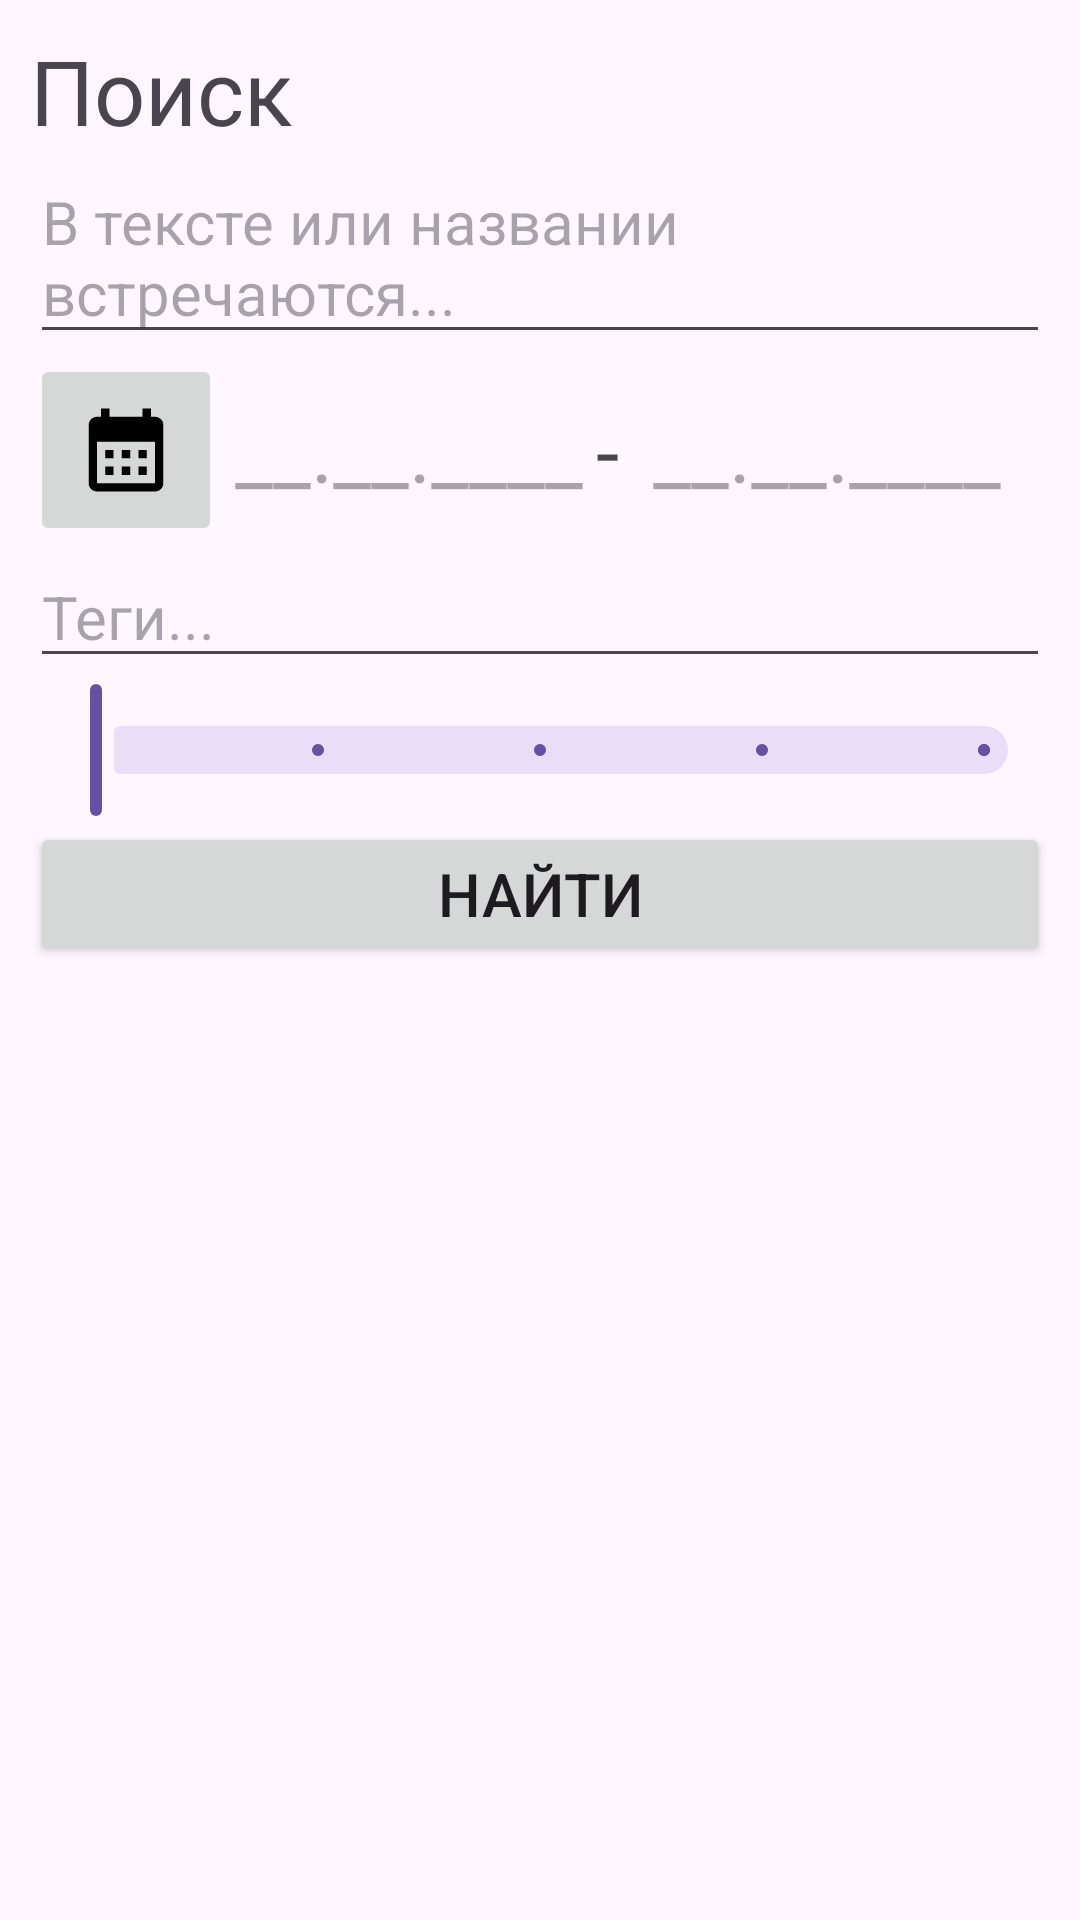

Where to tap for icons on this 1080*1920 app screen, as point (x, y):
calendar: point (126, 450)
